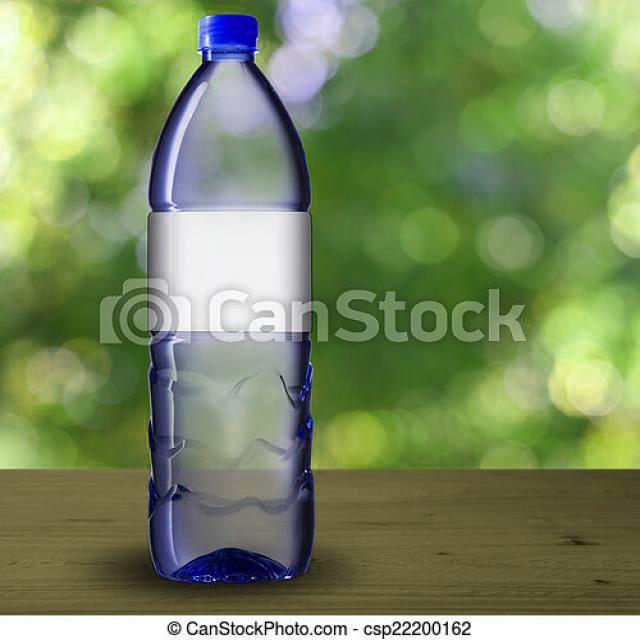bottle: (148, 13, 316, 584)
